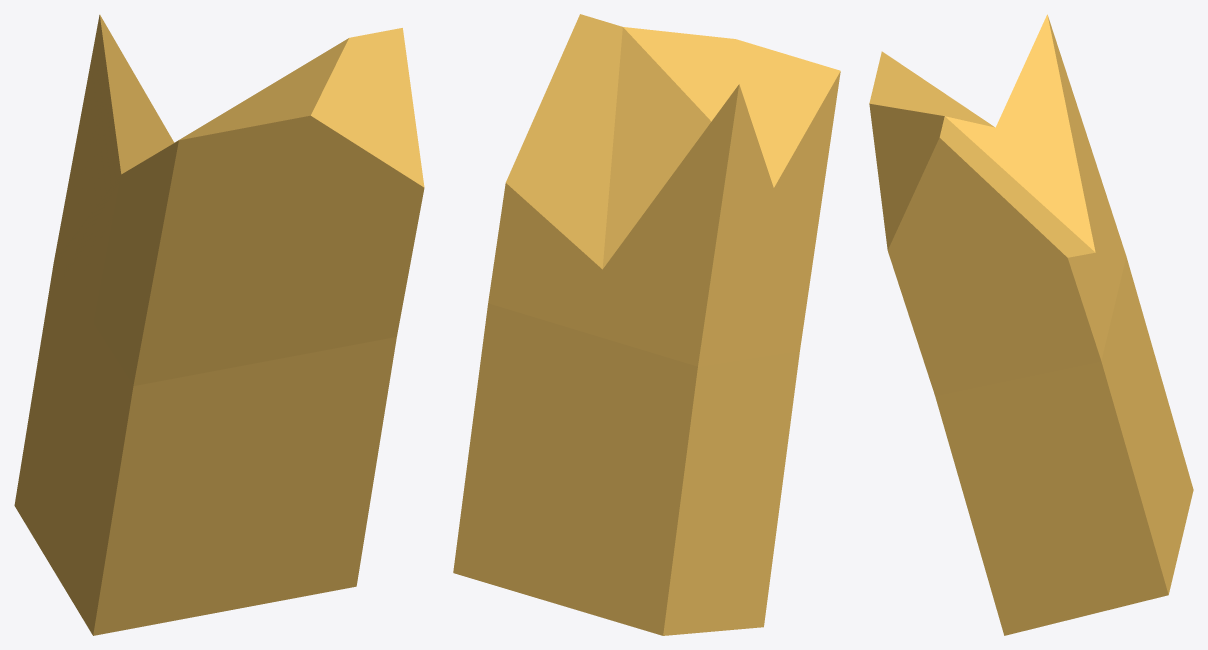
File: Boat skeleton broken column6.fbx
3 renders of one model, left to right at view 1: azimuth 30°, elevation 25°; view 2: azimuth 150°, elevation 25°; view 3: azimuth 270°, elevation 25°, orthographic. The views are drawn at different scales.
Parts seen in each view (by area): view 1: Broken columns.005; view 2: Broken columns.005; view 3: Broken columns.005.
Part boxes in pixels (left/top/right/bottom): Broken columns.005: left=14, top=14, right=424, bottom=635; Broken columns.005: left=453, top=14, right=840, bottom=635; Broken columns.005: left=869, top=14, right=1193, bottom=635.
Size of the model in its own units: 4.6 by 10.09 by 5.65.
